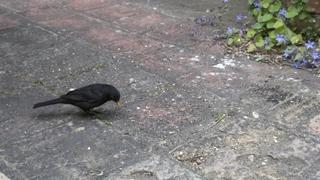blackbird: (33, 83, 121, 118)
